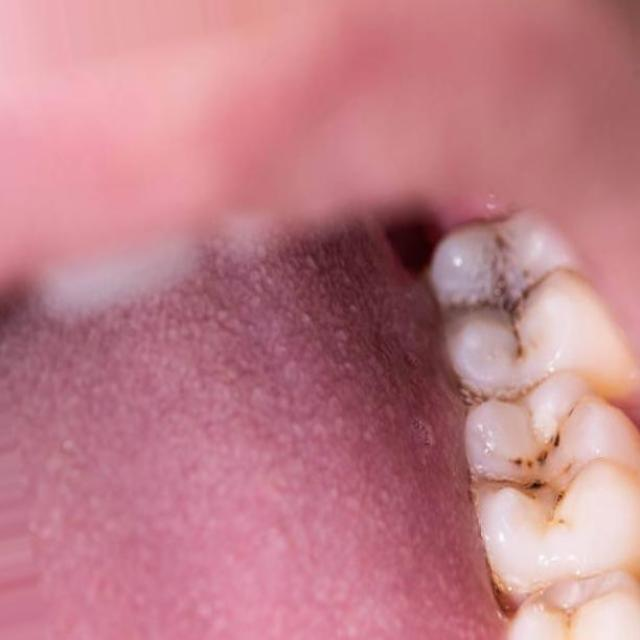caries: (462, 392, 601, 538), (443, 230, 572, 378)
